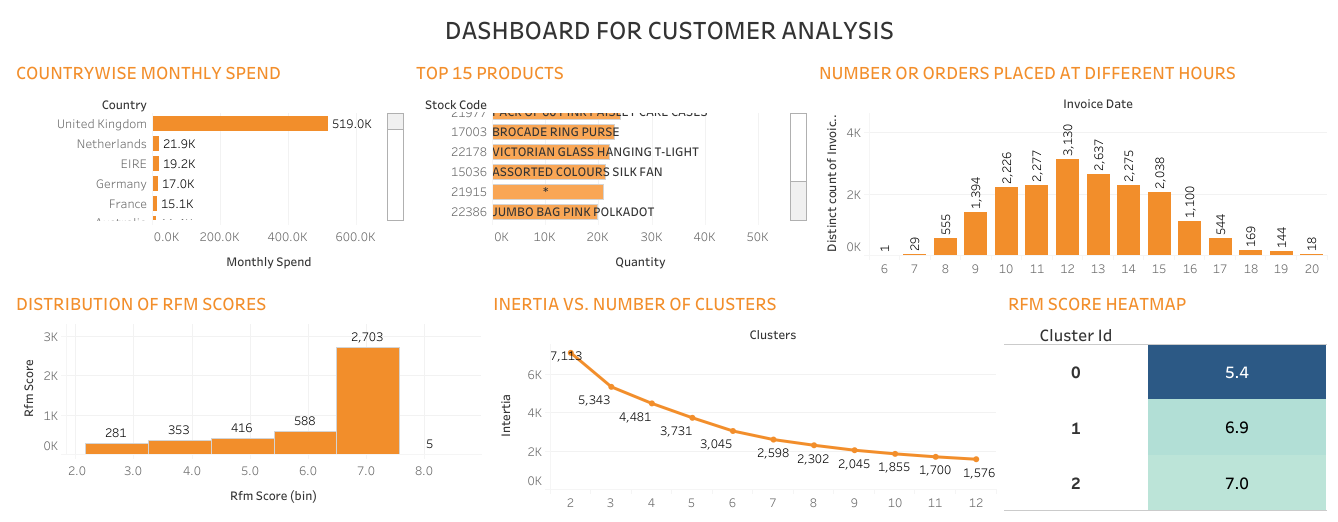

The page's visual inventory and layout, read from the dashboard file:
{"tool":"tableau","page":{"name":"Dashboard","canvas":[1125,530],"ordinal":0},"visuals":[{"type":"title","box":[8,8,1109,41]},{"type":"worksheet","title":"COUNTRY_SPEND","mark":"Automatic","rows":["Country"],"cols":["Calculation_476537180925435904"],"box":[8,49,400,234.5]},{"type":"worksheet","title":"Top 15 Products","mark":"Automatic","rows":["StockCode"],"cols":["Quantity"],"box":[408,49,403,234.5]},{"type":"worksheet","title":"Order Vs. Hours","mark":"Bar","rows":["InvoiceNo"],"cols":["InvoiceDate"],"box":[811,49,306,234.5]},{"type":"worksheet","title":"RFM Score","mark":"Automatic","rows":["rfm_score"],"cols":["Rfm Score (bin)"],"box":[8,283.5,400,238.5]},{"type":"worksheet","title":"Inertia","mark":"Line","rows":["intertia"],"cols":["clusters"],"box":[408,283.5,431.7,238.5]},{"type":"worksheet","title":"RFM Heatmap","mark":"Square","rows":["Cluster_Id"],"box":[839.7,283.5,277.3,238.5]}]}

Visuals, with their boxes on the page's 1125x530 design canvas (x1, y1, x2, y2). These are canvas units, not pixel positions in the 1338x522 screenshot, which may show the page scaled, cropped or inside an application window:
title: [8,8,1117,49]
"COUNTRY_SPEND" worksheet: [8,49,408,284]
"Top 15 Products" worksheet: [408,49,811,284]
"Order Vs. Hours" worksheet (Bar marks): [811,49,1117,284]
"RFM Score" worksheet: [8,284,408,522]
"Inertia" worksheet (Line marks): [408,284,840,522]
"RFM Heatmap" worksheet (Square marks): [840,284,1117,522]
